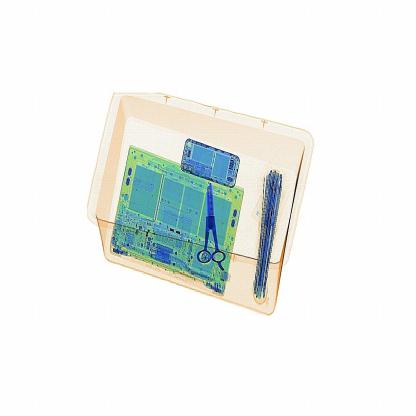gun: (192, 174, 235, 272)
